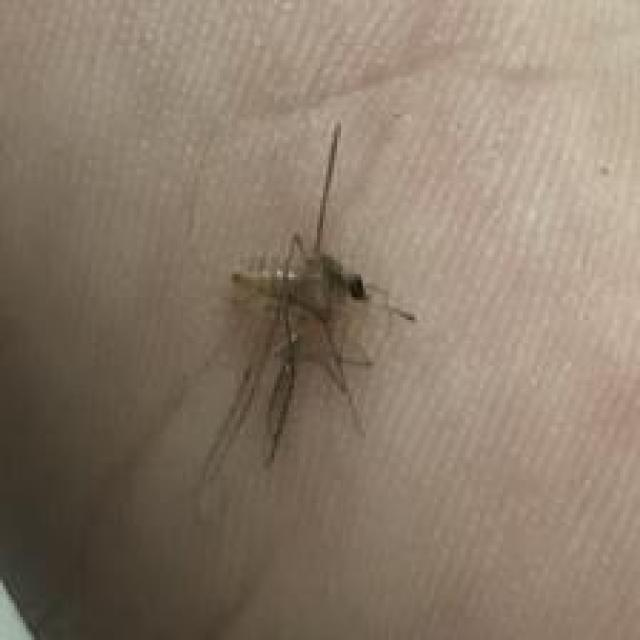Culex: (191, 119, 420, 510)
